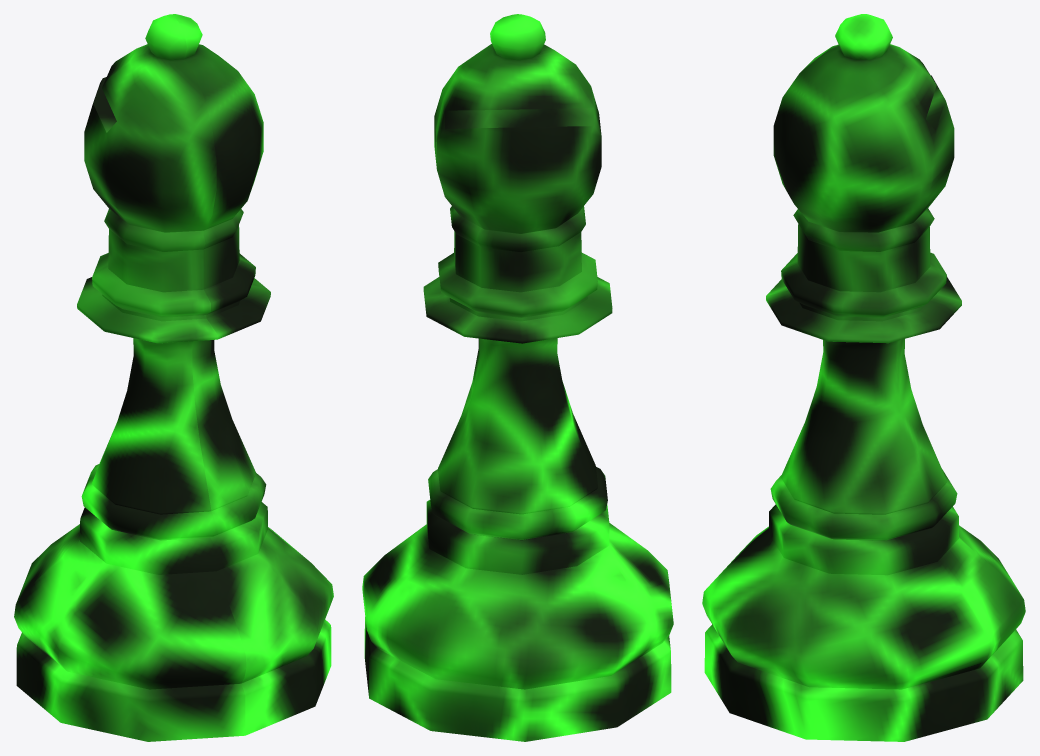
File: item-2-8.glb
3 views of the same model, side by side, from view 1: azimuth 30°, elevation 25°; view 2: azimuth 150°, elevation 25°; view 3: azimuth 270°, elevation 25° (orthographic).
Parts seen in each view (by area): view 1: BlackBishop; view 2: BlackBishop; view 3: BlackBishop.
Part boxes in pixels (<box>): BlackBishop: <box>14,14,333,741</box>; BlackBishop: <box>362,14,673,741</box>; BlackBishop: <box>702,14,1025,741</box>.
Bounding box in the file's own units: 0.0928 × 0.2155 × 0.0958.
Materials: 1 (1 with a texture image).
